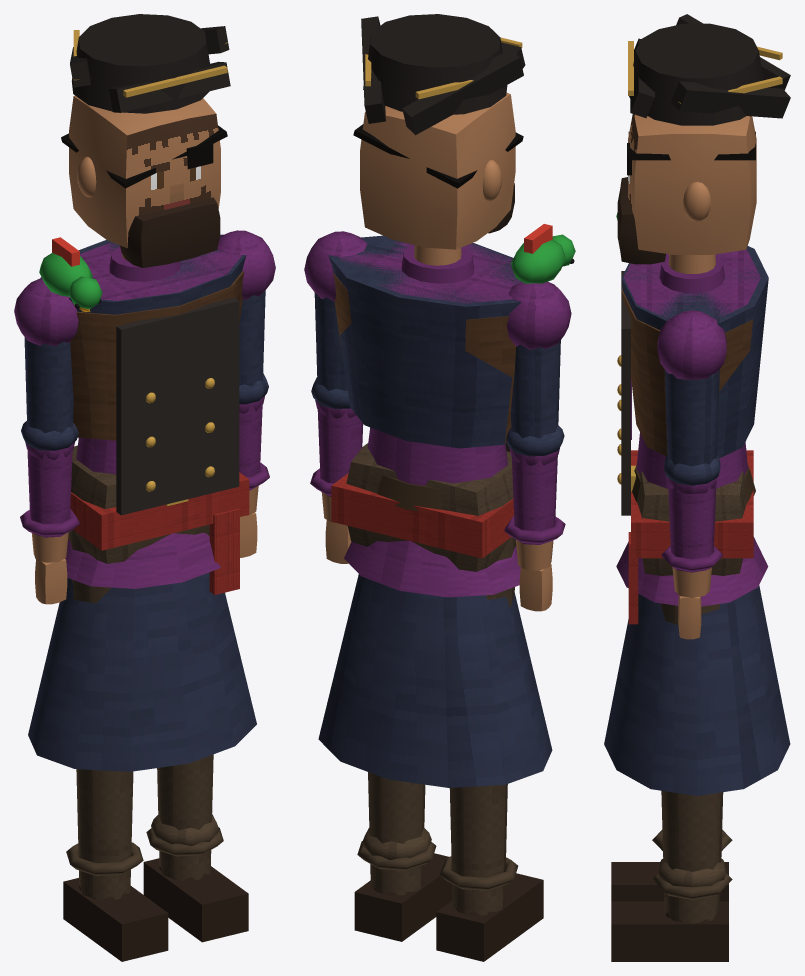
Rendered from pirata.glb.
3 renders of one model, left to right at view 1: azimuth 30°, elevation 25°; view 2: azimuth 150°, elevation 25°; view 3: azimuth 270°, elevation 25°, orthographic. The views are drawn at different scales.
Parts seen in each view (by area): view 1: pirata, object 32, object 35, object 3, object 6, object 13, object 42, object 9, object 16, object 15, object 18, object 23 (+19 smaller); view 2: pirata, object 32, object 35, object 3, object 6, object 9, object 13, object 16, object 15, object 40, object 18, object 26 (+16 smaller); view 3: pirata, object 32, object 35, object 13, object 9, object 24, object 23, object 26, object 38, object 6, object 42, object 11 (+13 smaller).
Boxes of the visible parts, <box> form: pirata: <box>28,234,256,771</box>; object 32: <box>69,95,220,247</box>; object 35: <box>71,14,209,113</box>; object 3: <box>76,769,133,900</box>; object 6: <box>63,878,168,961</box>; object 13: <box>143,858,248,942</box>; object 42: <box>120,197,220,267</box>; object 9: <box>157,754,213,880</box>; object 16: <box>24,337,73,433</box>; object 15: <box>14,278,78,346</box>; object 18: <box>27,447,72,537</box>; object 23: <box>217,230,275,299</box>; pirata: <box>318,235,552,787</box>; object 32: <box>360,92,515,249</box>; object 35: <box>363,14,507,114</box>; object 3: <box>449,784,507,915</box>; object 6: <box>436,873,543,961</box>; object 9: <box>368,772,425,895</box>; object 13: <box>354,853,452,941</box>; object 16: <box>511,340,560,438</box>; object 15: <box>506,281,571,349</box>; object 40: <box>402,49,523,135</box>; object 18: <box>511,452,557,544</box>; object 26: <box>317,405,363,496</box>; pirata: <box>604,246,790,795</box>; object 32: <box>628,114,756,254</box>; object 35: <box>629,23,763,125</box>; object 13: <box>611,901,728,961</box>; object 9: <box>661,790,723,923</box>; object 24: <box>664,369,719,466</box>; object 23: <box>657,310,726,379</box>; object 26: <box>668,479,716,572</box>; object 38: <box>671,81,790,118</box>; object 6: <box>611,862,728,901</box>; object 42: <box>617,177,665,264</box>; object 11: <box>658,858,725,887</box>.
Bounding box in the file's own units: 0.6292 × 2.09 × 0.401.
Materials: 23 (6 with a texture image).
